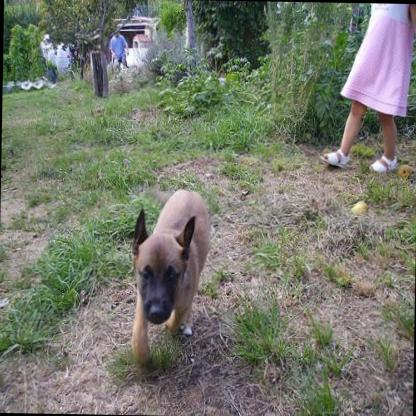malinois: (127, 181, 213, 373)
